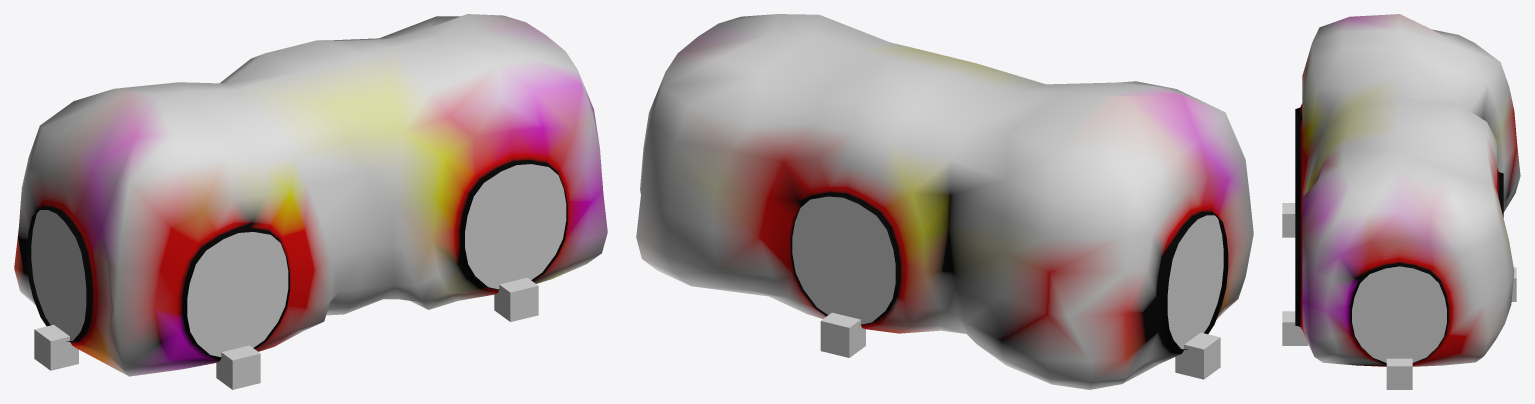
Rendered from CorridorLong.fbx.
3 views of the same model, side by side, from view 1: azimuth 30°, elevation 25°; view 2: azimuth 150°, elevation 25°; view 3: azimuth 270°, elevation 25° (orthographic). The views are drawn at different scales.
Parts seen in each view (by area): view 1: CorridorLong_walls, CorridorLong_Door2, CorridorLong_Door3, CorridorLong_Door1, CoridorLong_DoorSnap3, CoridorLong_DoorSnap2, CoridorLong_DoorSnap1; view 2: CorridorLong_walls, CorridorLong_Door5, CorridorLong_Door1, CoridorLong_DoorSnap5, CoridorLong_DoorSnap1; view 3: CorridorLong_walls, CorridorLong_Door4, CoridorLong_DoorSnap4, CoridorLong_DoorSnap3, CoridorLong_DoorSnap2.
Part boxes in pixels (bbox=[...]): CorridorLong_walls: bbox=[14, 14, 607, 376]; CorridorLong_Door2: bbox=[187, 232, 288, 356]; CorridorLong_Door3: bbox=[465, 164, 566, 289]; CorridorLong_Door1: bbox=[31, 210, 86, 340]; CoridorLong_DoorSnap3: bbox=[494, 277, 538, 321]; CoridorLong_DoorSnap2: bbox=[216, 345, 260, 389]; CoridorLong_DoorSnap1: bbox=[34, 324, 78, 370]; CorridorLong_walls: bbox=[636, 14, 1253, 389]; CorridorLong_Door5: bbox=[792, 196, 895, 324]; CorridorLong_Door1: bbox=[1167, 215, 1223, 349]; CoridorLong_DoorSnap5: bbox=[820, 312, 865, 357]; CoridorLong_DoorSnap1: bbox=[1175, 332, 1220, 379]; CorridorLong_walls: bbox=[1295, 14, 1520, 366]; CorridorLong_Door4: bbox=[1352, 266, 1446, 362]; CoridorLong_DoorSnap4: bbox=[1386, 358, 1412, 389]; CoridorLong_DoorSnap3: bbox=[1282, 311, 1308, 345]; CoridorLong_DoorSnap2: bbox=[1282, 203, 1295, 237].
Size of the model in its own units: 1900 by 849 by 915.
